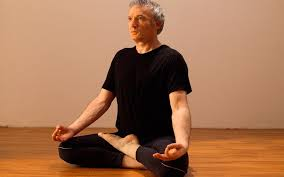hand: (151, 139, 192, 163), (46, 120, 79, 143)
